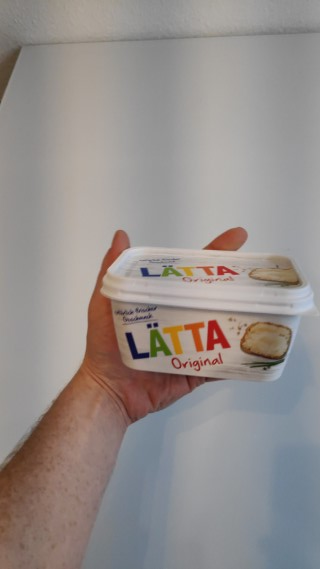laetta: (100, 246, 320, 381)
